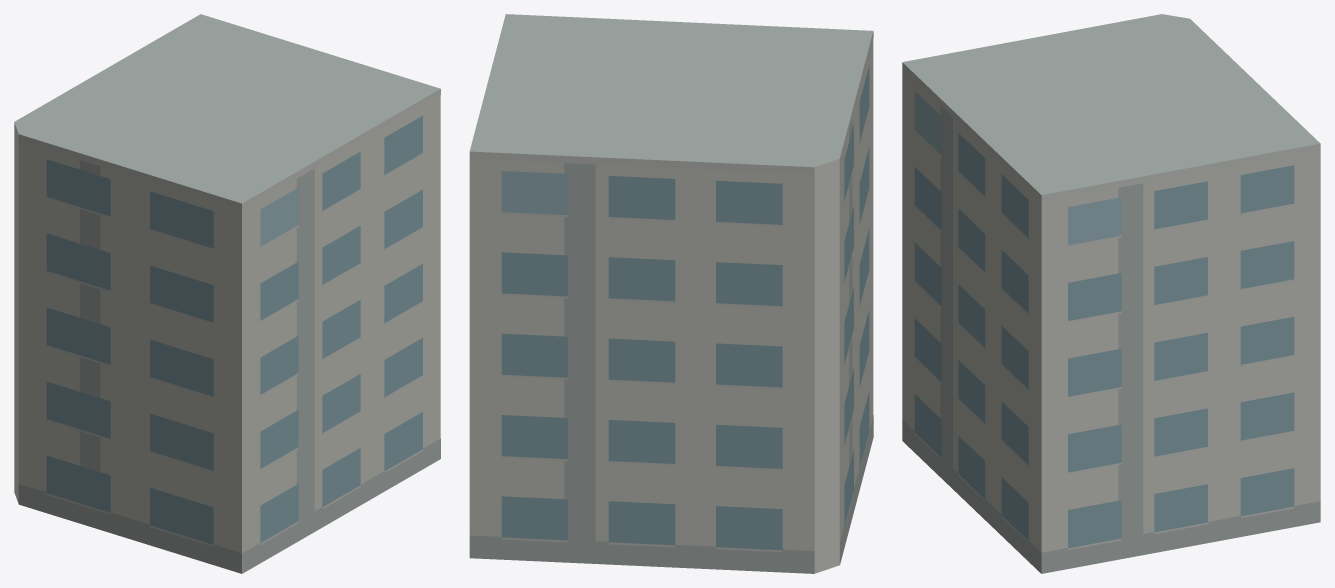
File: survey-upis-32876662.glb
3 renders of one model, left to right at view 1: azimuth 30°, elevation 25°; view 2: azimuth 150°, elevation 25°; view 3: azimuth 270°, elevation 25°, orthographic. The views are drawn at different scales.
Parts seen in each view (by area): view 1: survey-upis-32876662.tmp; view 2: survey-upis-32876662.tmp; view 3: survey-upis-32876662.tmp.
Boxes of the visible parts, left/top/right/bottom form: survey-upis-32876662.tmp: left=14, top=14, right=440, bottom=573; survey-upis-32876662.tmp: left=469, top=14, right=873, bottom=573; survey-upis-32876662.tmp: left=902, top=14, right=1320, bottom=573.
Bounding box in the file's own units: 13.76 × 13.4 × 13.43.
